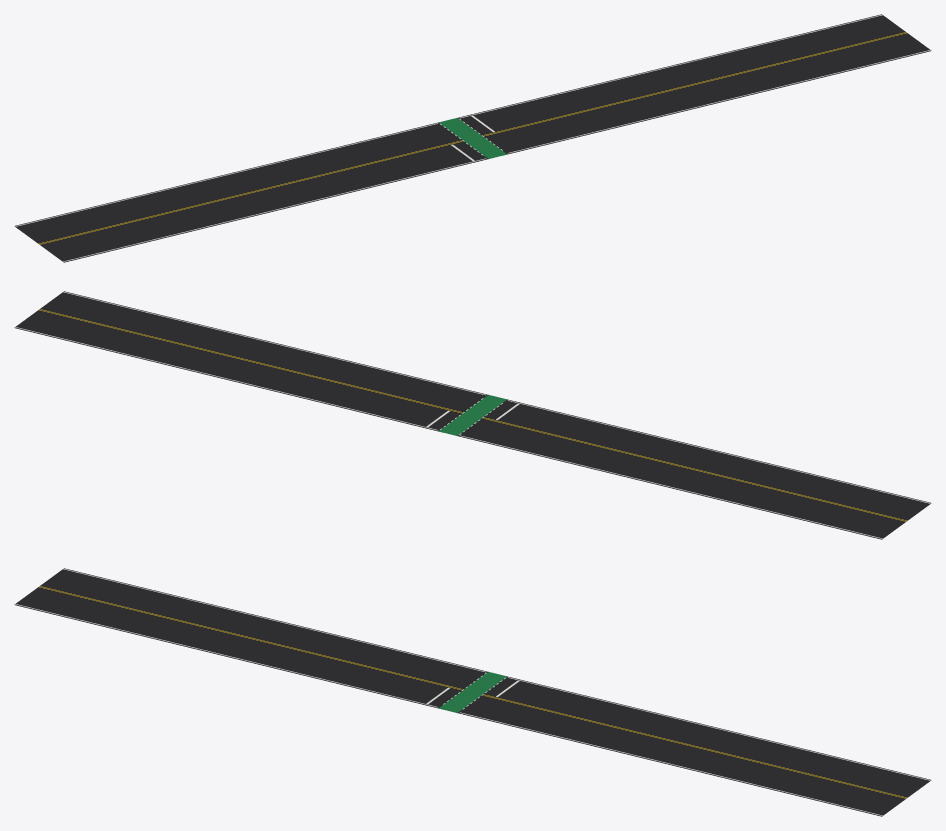
File: CarreteraCruce.obj
The picture shows the model from 3 angles, top to bottom: view 1: azimuth 30°, elevation 25°; view 2: azimuth 150°, elevation 25°; view 3: azimuth 330°, elevation 25°; orthographic projection.
Visible parts, largest first — view 1: CruceAsfalto, CruceLineaBorde, CruceLineaCentral, CruceCiclovia; view 2: CruceAsfalto, CruceLineaBorde, CruceLineaCentral, CruceCiclovia; view 3: CruceAsfalto, CruceLineaBorde, CruceLineaCentral, CruceCiclovia.
Boxes of the visible parts, x1,y1,x2,y2 form: CruceAsfalto: (14, 14, 931, 262); CruceLineaBorde: (15, 14, 930, 261); CruceLineaCentral: (38, 32, 906, 244); CruceCiclovia: (439, 118, 506, 158); CruceAsfalto: (14, 291, 931, 539); CruceLineaBorde: (15, 291, 930, 538); CruceLineaCentral: (39, 309, 907, 521); CruceCiclovia: (439, 395, 506, 435); CruceAsfalto: (14, 568, 931, 816); CruceLineaBorde: (15, 568, 930, 815); CruceLineaCentral: (39, 586, 907, 798); CruceCiclovia: (439, 672, 506, 712).
Size of the model in its own units: 120 by 0.014 by 12.
